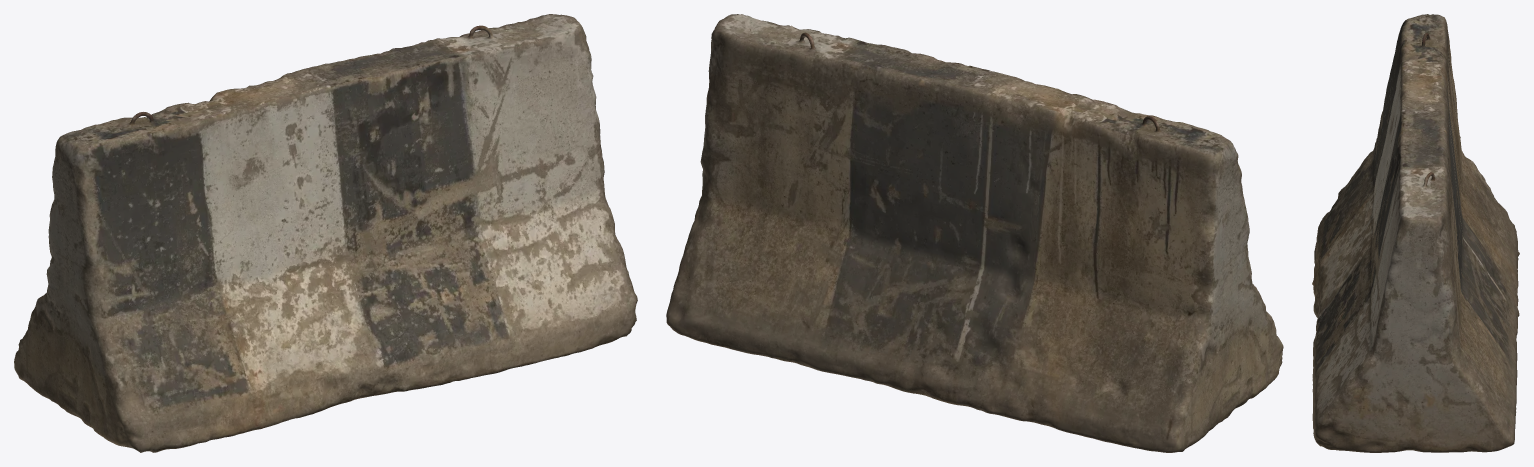
Rendered from concrete_road_barrier.glb.
The picture shows the model from 3 angles, left to right: view 1: azimuth 30°, elevation 25°; view 2: azimuth 150°, elevation 25°; view 3: azimuth 270°, elevation 25°; orthographic projection. The views are drawn at different scales.
Visible parts, largest first — view 1: concrete_road_barrier; view 2: concrete_road_barrier; view 3: concrete_road_barrier.
Boxes of the visible parts, left/top/right/bottom form: concrete_road_barrier: left=14, top=14, right=637, bottom=452; concrete_road_barrier: left=666, top=14, right=1283, bottom=452; concrete_road_barrier: left=1312, top=14, right=1519, bottom=452.
Bounding box in the file's own units: 1.55 × 0.831 × 0.6388.
1 material, 1 textured.
